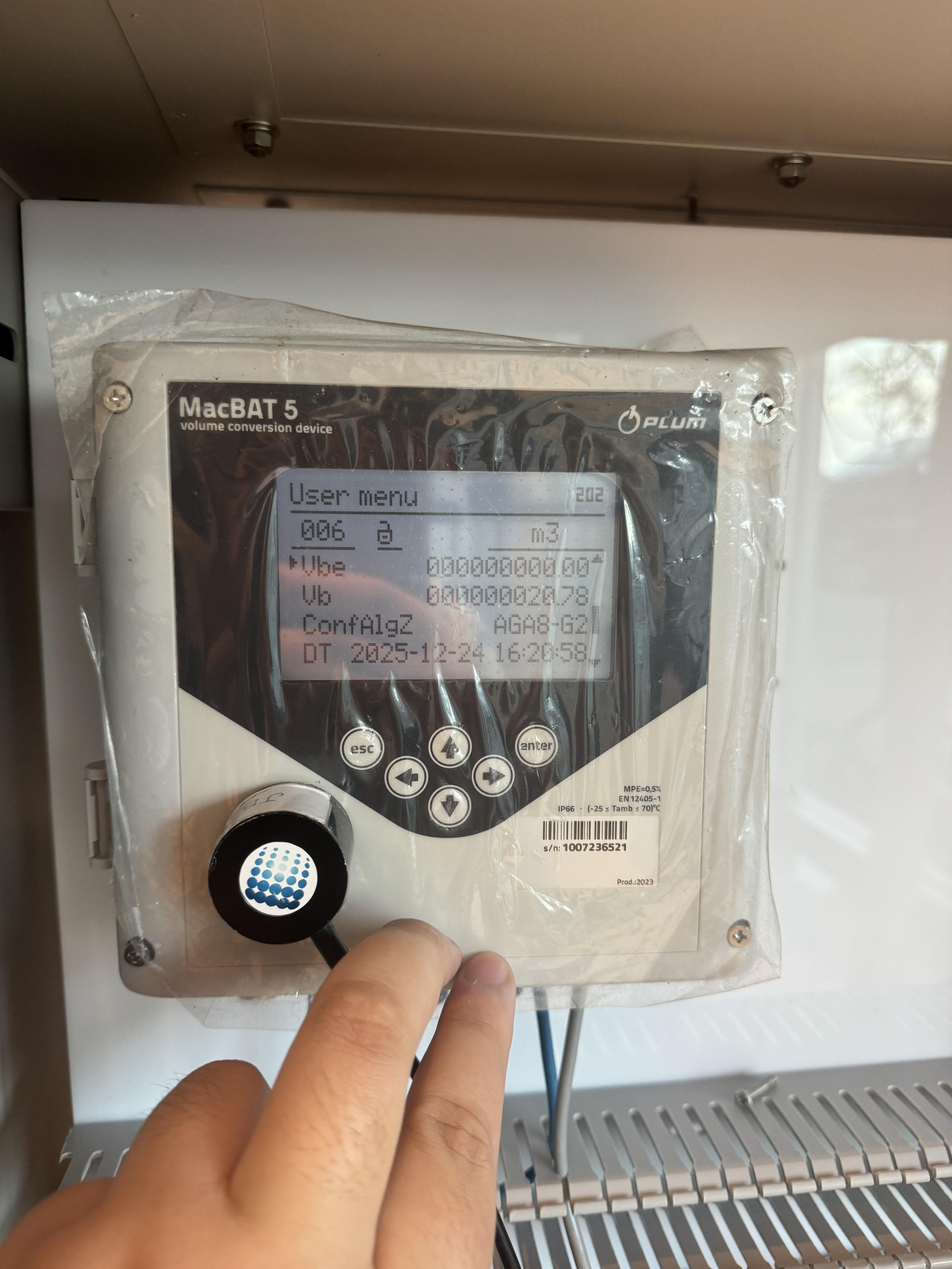digital_screen: (277, 468, 620, 681)
